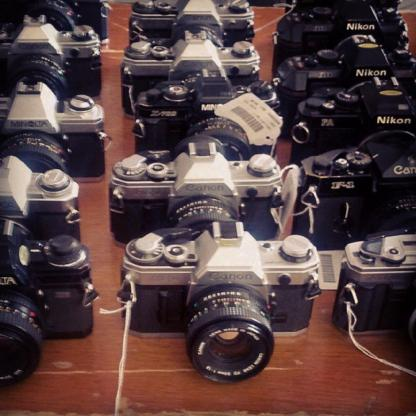Camera: (1, 1, 416, 390)
